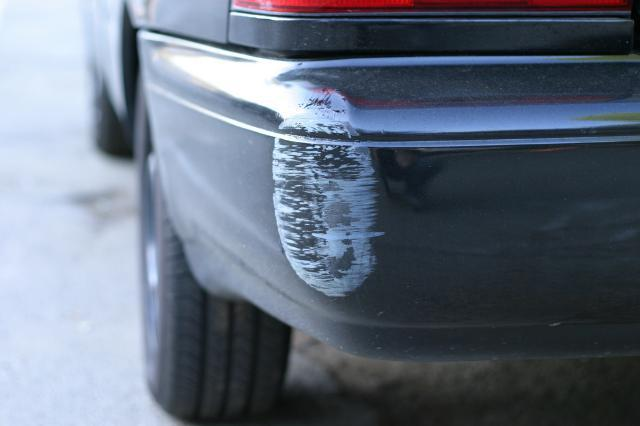scratch: (270, 87, 385, 299)
